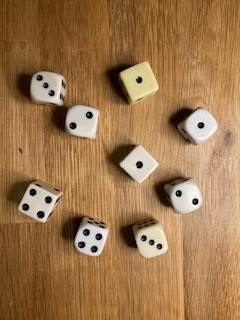four: (17, 179, 64, 226), (72, 215, 110, 259)
one: (118, 60, 160, 105), (118, 143, 161, 185), (176, 106, 219, 146)
three: (133, 216, 169, 260), (30, 70, 68, 109)
two: (162, 176, 205, 216), (64, 104, 101, 140)
